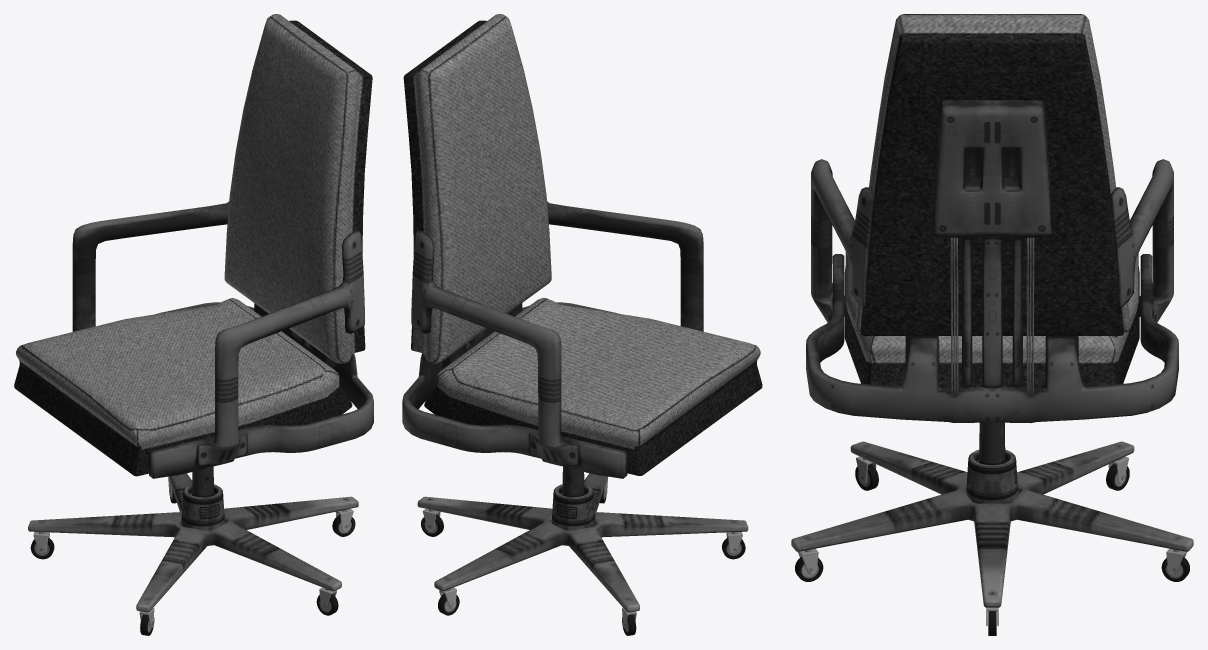
Rendered from office-chair-transformed.glb.
3 views of the same model, side by side, from view 1: azimuth 30°, elevation 25°; view 2: azimuth 150°, elevation 25°; view 3: azimuth 270°, elevation 25° (orthographic). The views are drawn at different scales.
Parts seen in each view (by area): view 1: Cube__0; view 2: Cube__0; view 3: Cube__0.
Boxes of the visible parts, x1,y1,x2,y2 form: Cube__0: (14, 14, 373, 635); Cube__0: (402, 14, 762, 635); Cube__0: (791, 14, 1193, 635).
Bounding box in the file's own units: 1.84 × 3.13 × 1.9.
Materials: 1 (1 with a texture image).
